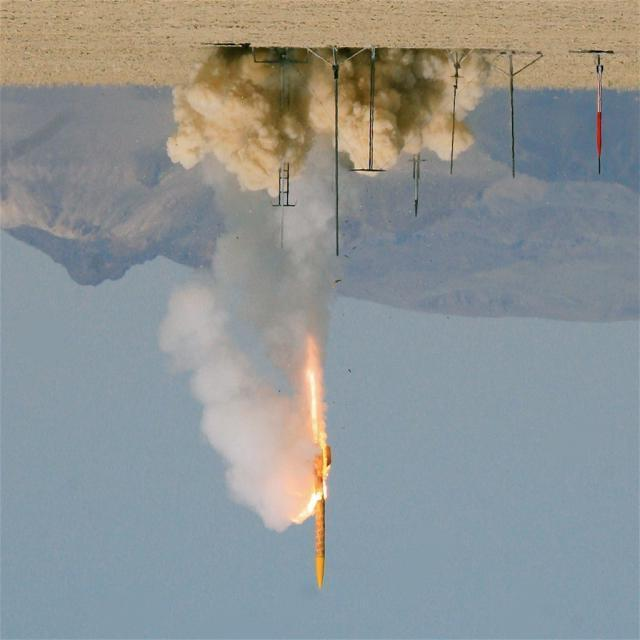Missile: (308, 441, 336, 595)
